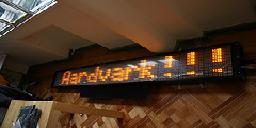LED: (57, 58, 159, 87)
